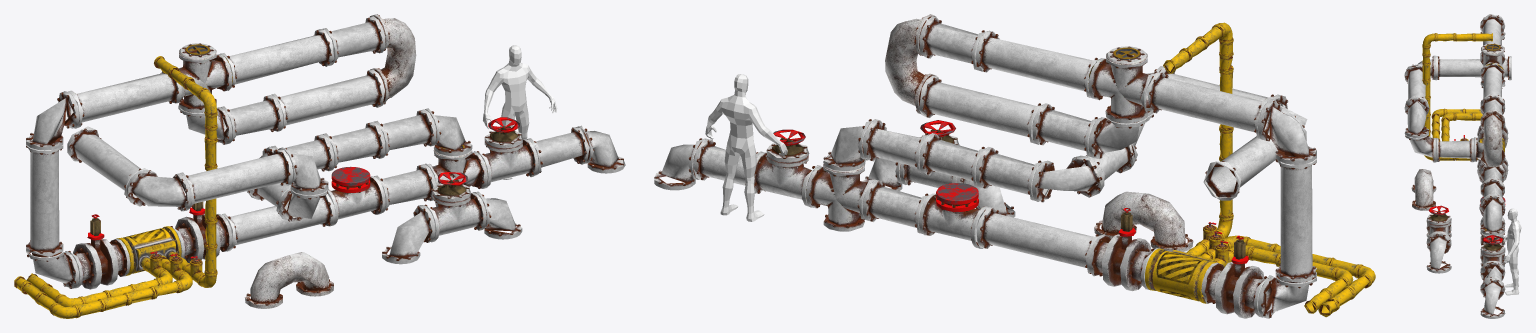
File: rack.glb
3 renders of one model, left to right at view 1: azimuth 30°, elevation 25°; view 2: azimuth 150°, elevation 25°; view 3: azimuth 270°, elevation 25°, orthographic. The views are drawn at different scales.
Visible parts, largest first — view 1: LONG_PIPE_6_Mat.1_0, Default_15_HALF_U_0, Default_10_Mat.2_0, U_1_initialShadingGroup_0, VALVE_02_1_VALVE_2_0, Default_27_MEDIUM SHORT_0, VALVE_03_1_VALVE_03_0, CROSS_PIPE_1_CROSS_PIPE_0, BaseMeshBKP__0, valve_4_1_VALVE 4_0, Default_2_3_initialShadingGroup_0, Default_18_M_HALFU_0 (+2 smaller); view 2: LONG_PIPE_6_Mat.1_0, Default_10_Mat.2_0, Default_15_HALF_U_0, CROSS_PIPE_1_CROSS_PIPE_0, VALVE_03_1_VALVE_03_0, U_1_initialShadingGroup_0, Default_27_MEDIUM SHORT_0, VALVE_02_1_VALVE_2_0, BaseMeshBKP__0, valve_4_1_VALVE 4_0, Default_2_3_initialShadingGroup_0, Default_18_M_HALFU_0 (+2 smaller); view 3: Default_15_HALF_U_0, LONG_PIPE_6_Mat.1_0, Default_10_Mat.2_0, U_1_initialShadingGroup_0, Default_27_MEDIUM SHORT_0, VALVE_02_1_VALVE_2_0, BaseMeshBKP__0, CROSS_PIPE_1_CROSS_PIPE_0, VALVE_03_1_VALVE_03_0, Default_18_M_HALFU_0, Default_22_initialShadingGroup_0.
Boxes of the visible parts, box(x1,y1,x2,y2) form: LONG_PIPE_6_Mat.1_0: box(26, 29, 384, 256); Default_15_HALF_U_0: box(26, 91, 625, 288); Default_10_Mat.2_0: box(221, 16, 589, 218); U_1_initialShadingGroup_0: box(244, 14, 416, 308); VALVE_02_1_VALVE_2_0: box(420, 117, 538, 242); Default_27_MEDIUM SHORT_0: box(21, 56, 217, 317); VALVE_03_1_VALVE_03_0: box(65, 201, 232, 289); CROSS_PIPE_1_CROSS_PIPE_0: box(173, 43, 487, 206); BaseMeshBKP__0: box(483, 45, 557, 179); valve_4_1_VALVE 4_0: box(327, 166, 385, 225); Default_2_3_initialShadingGroup_0: box(116, 226, 181, 275); Default_18_M_HALFU_0: box(50, 88, 217, 318); LONG_PIPE_6_Mat.1_0: box(919, 31, 1316, 282); Default_10_Mat.2_0: box(693, 16, 1135, 233); Default_15_HALF_U_0: box(654, 66, 1316, 318); CROSS_PIPE_1_CROSS_PIPE_0: box(806, 46, 1158, 231); VALVE_03_1_VALVE_03_0: box(1088, 208, 1273, 318); U_1_initialShadingGroup_0: box(885, 14, 1193, 251); Default_27_MEDIUM SHORT_0: box(1163, 25, 1371, 313); VALVE_02_1_VALVE_2_0: box(754, 120, 959, 207); BaseMeshBKP__0: box(705, 74, 787, 221); valve_4_1_VALVE 4_0: box(919, 183, 990, 248); Default_2_3_initialShadingGroup_0: box(1145, 248, 1216, 303); Default_18_M_HALFU_0: box(1214, 22, 1375, 285); Default_15_HALF_U_0: box(1404, 14, 1505, 318); LONG_PIPE_6_Mat.1_0: box(1405, 15, 1511, 211); Default_10_Mat.2_0: box(1436, 95, 1504, 287); U_1_initialShadingGroup_0: box(1411, 110, 1505, 210); Default_27_MEDIUM SHORT_0: box(1422, 33, 1492, 160); VALVE_02_1_VALVE_2_0: box(1426, 205, 1505, 281); BaseMeshBKP__0: box(1503, 208, 1521, 295); CROSS_PIPE_1_CROSS_PIPE_0: box(1480, 43, 1505, 267); VALVE_03_1_VALVE_03_0: box(1477, 125, 1508, 182); Default_18_M_HALFU_0: box(1422, 33, 1454, 160); Default_22_initialShadingGroup_0: box(1422, 46, 1430, 64).
Bounding box in the file's own units: 11.94 × 4.09 × 3.09.
14 materials, 13 textured.
